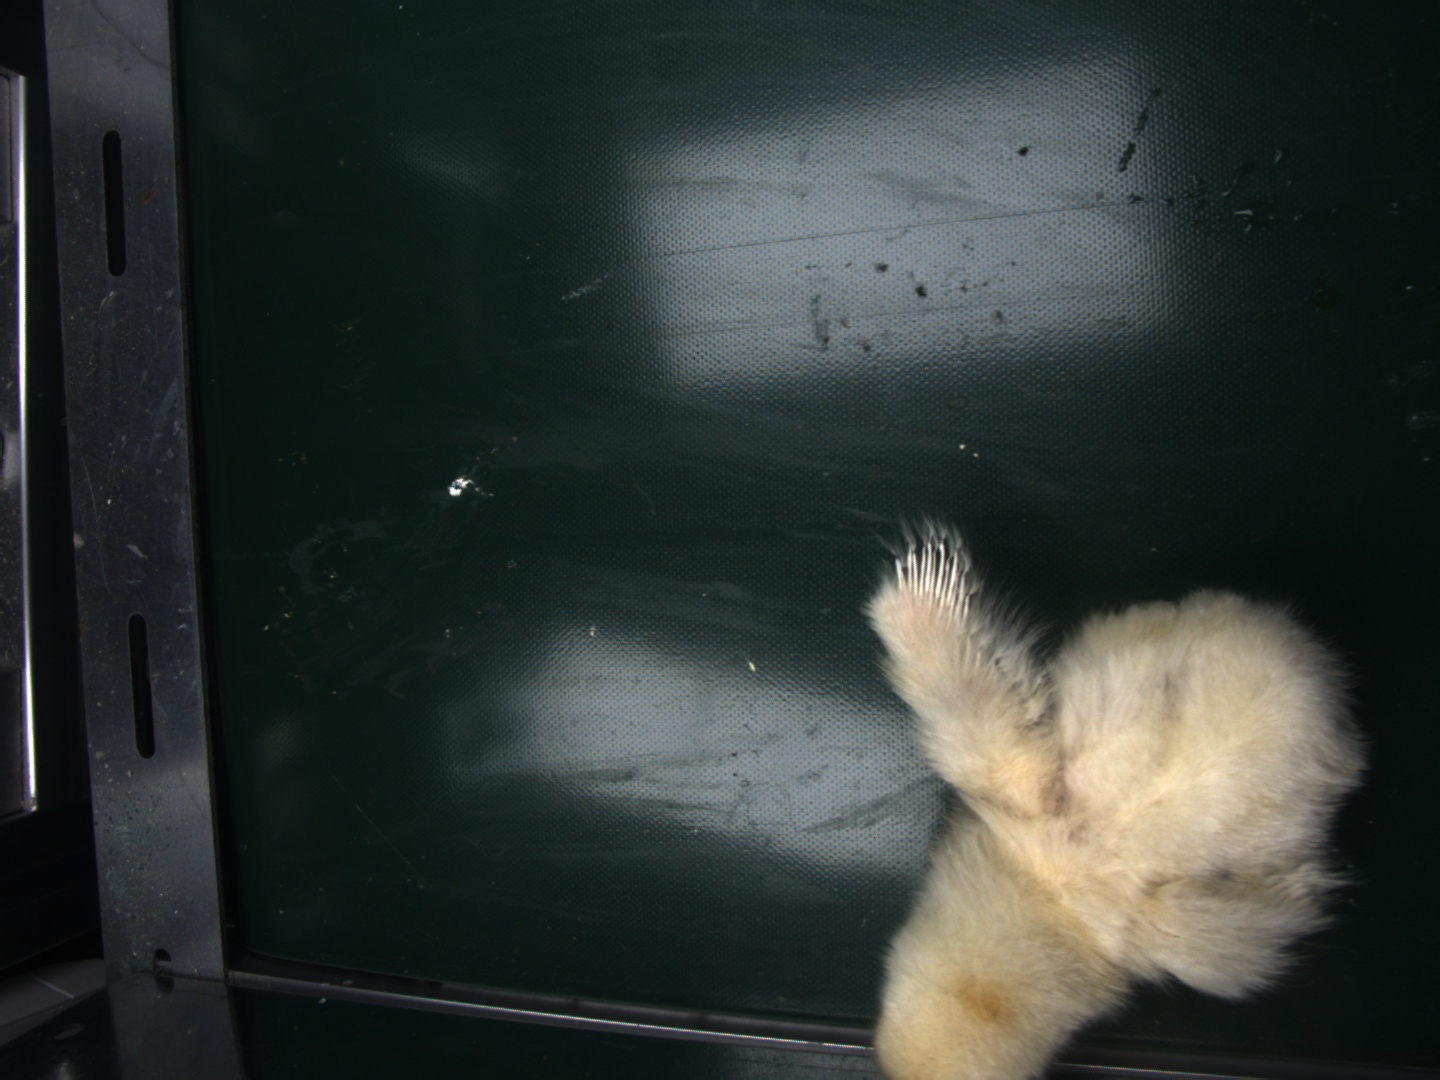male: (900, 538, 977, 614)
